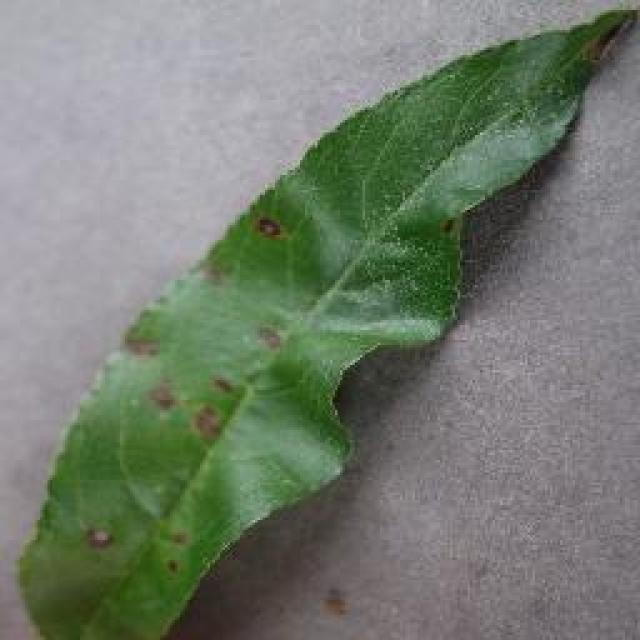Peach_Bacterial_Spot: (138, 254, 422, 564)
